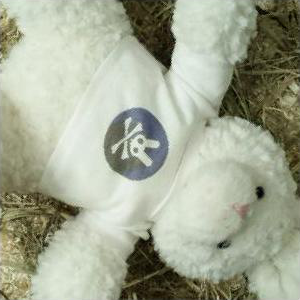bunny: (104, 107, 169, 182)
